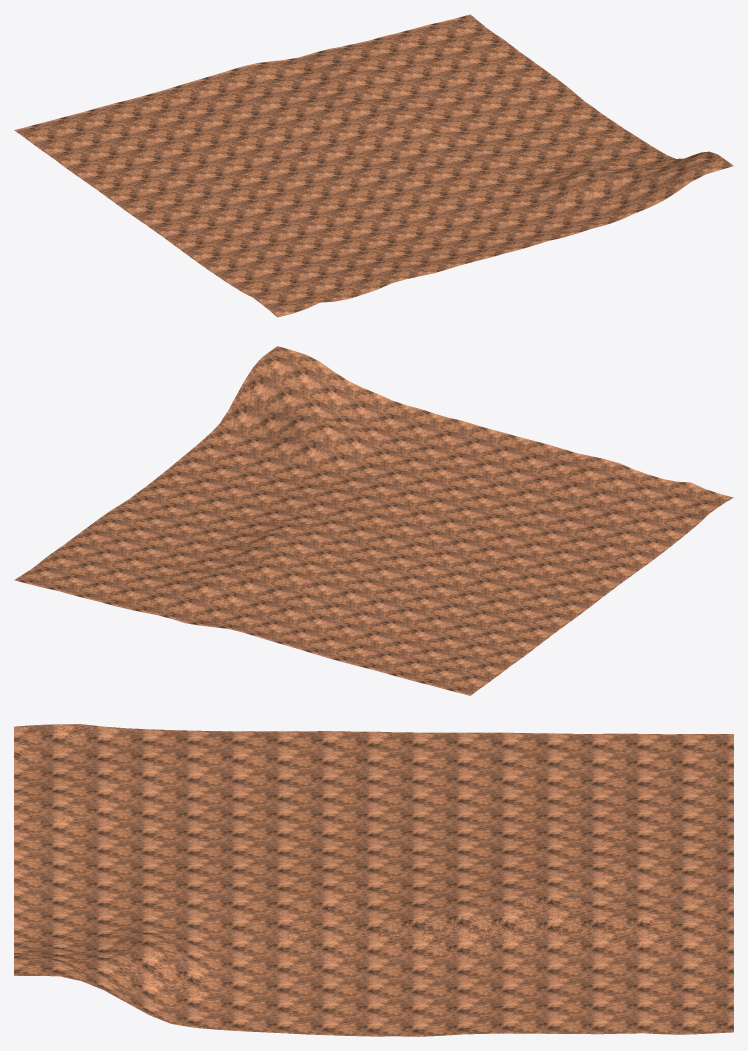
The model's file is terrain_09_07.dae.
3 views of the same model, one above another, from view 1: azimuth 30°, elevation 25°; view 2: azimuth 150°, elevation 25°; view 3: azimuth 270°, elevation 25° (orthographic). The views are drawn at different scales.
Parts seen in each view (by area): view 1: terrain_09_07-node; view 2: terrain_09_07-node; view 3: terrain_09_07-node.
Boxes of the visible parts, x1,y1,x2,y2 form: terrain_09_07-node: (14,14,733,317); terrain_09_07-node: (14,346,733,695); terrain_09_07-node: (14,724,733,1036).
Bounding box in the file's own units: 128 × 128 × 12.27.
Materials: 1 (1 with a texture image).
